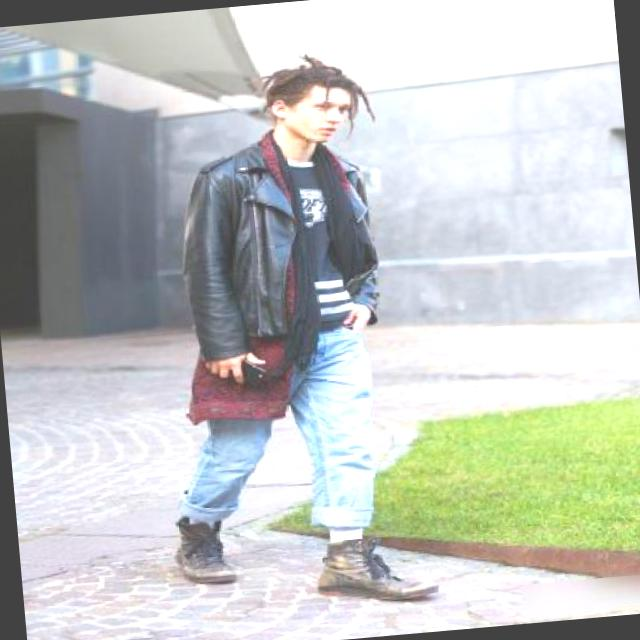Person: (76, 24, 503, 633)
